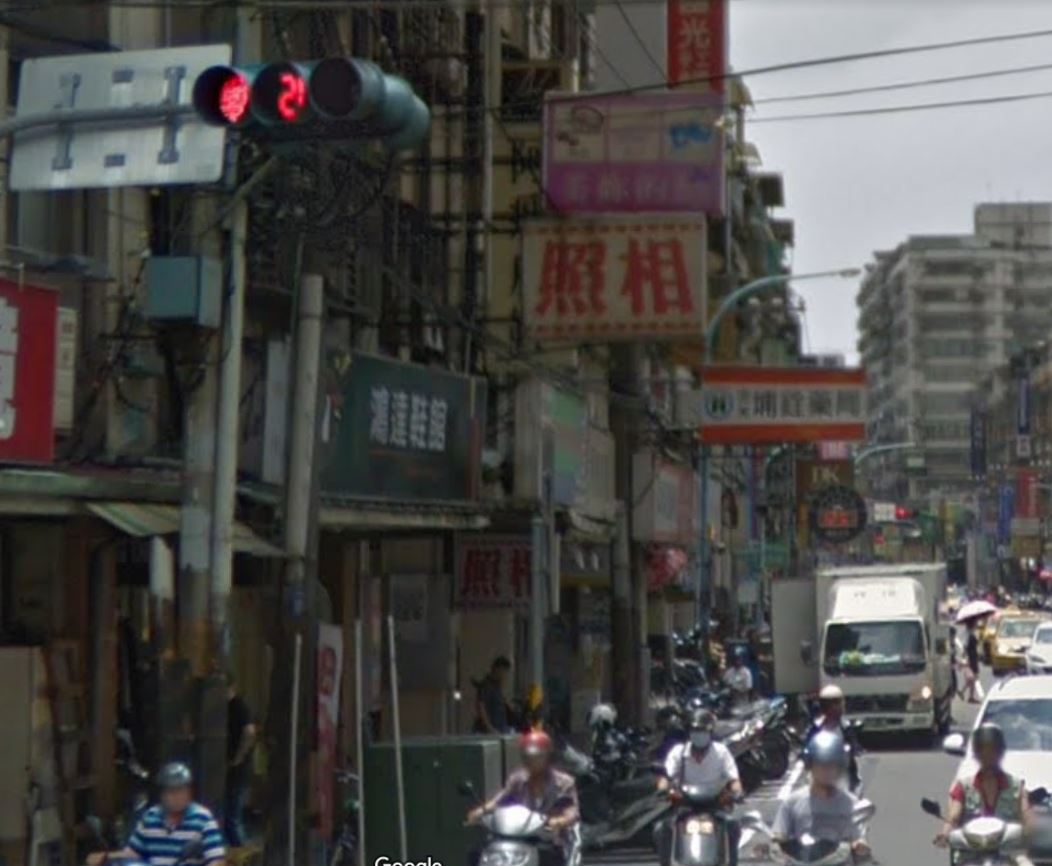Traffic_light_red: (186, 60, 386, 130)
